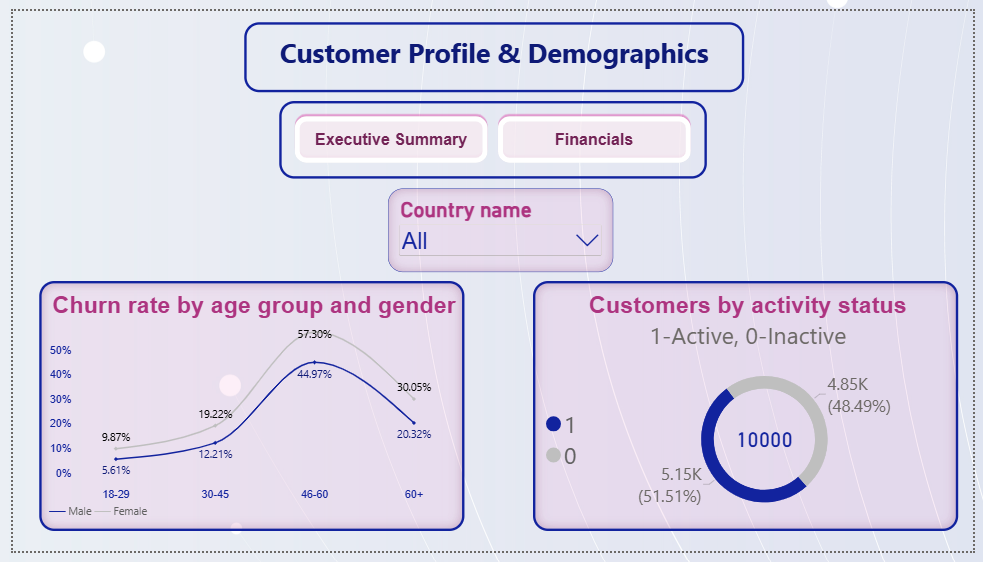

What the dashboard file says about the page in this screenshot:
{"tool":"powerbi","page":{"name":"Demographics","canvas":[1920,1080],"ordinal":1},"visuals":[{"type":"textbox","box":[462.5,22.5,1000,140],"z":0},{"type":"pageNavigator","box":[532.5,180,855,155],"z":1000},{"type":"lineChart","title":"Churn rate by age group and gender","fields":{"Category":["public customers.Age_Group"],"Series":["public customers.gender"],"Y":["public customers.Churn rate"]},"box":[52.5,540,850,500],"z":2000},{"type":"slicer","fields":{"Values":["public geography.country_name"]},"box":[750,355,450,167.5],"z":3000},{"type":"donutChart","title":"Customers by activity status","fields":{"Category":["public customers.status"],"Y":["CountNonNull(public customers.country_id)"]},"box":[1040,540,850,500],"z":4000}]}

Visuals, with their boxes in screenshot pixels (x1, y1, x2, y2), scaled from the page's 1920x1080 canvas onto the 983x562 screenshot:
textbox: <region>237, 12, 749, 85</region>
pageNavigator: <region>273, 94, 710, 174</region>
"Churn rate by age group and gender" lineChart: <region>27, 281, 462, 541</region>
slicer - public geography.country_name: <region>384, 185, 614, 272</region>
"Customers by activity status" donutChart: <region>532, 281, 968, 541</region>
